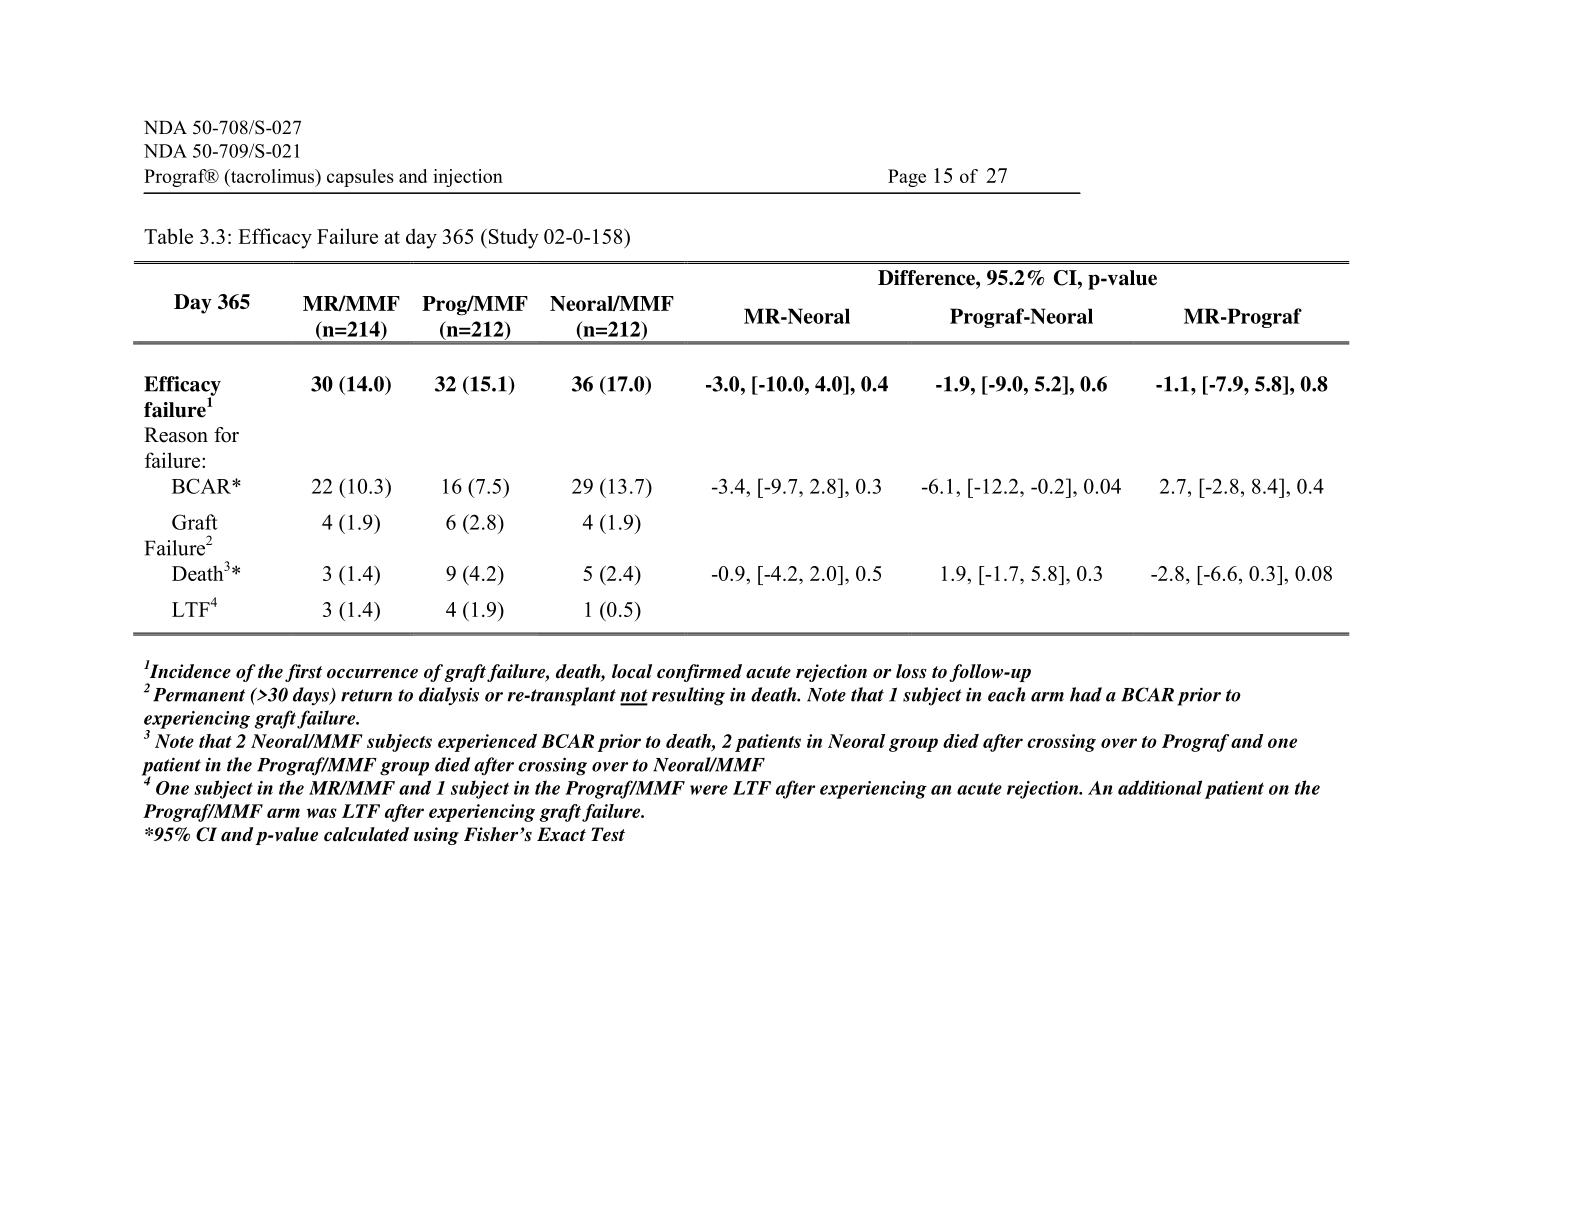partial_lined_merged_cells: (132, 261, 1354, 636)
